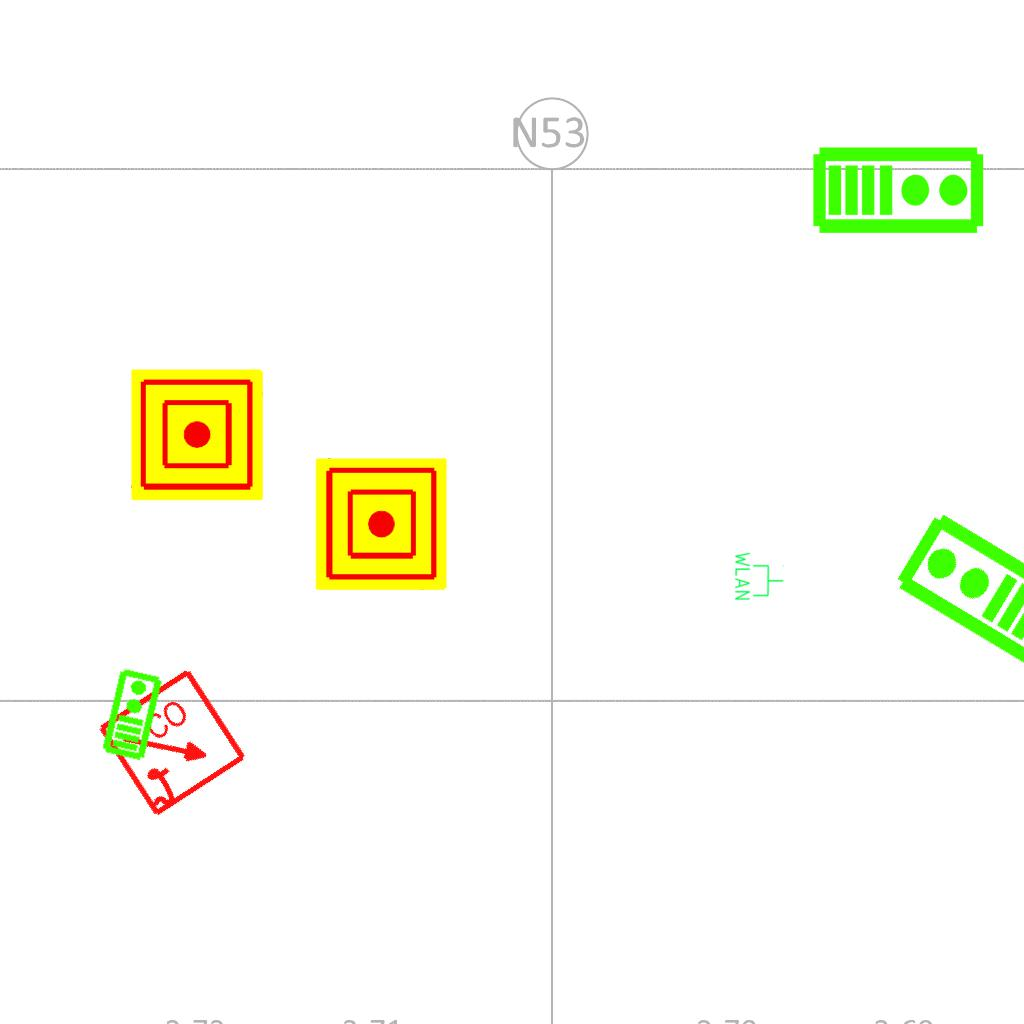Gegensprechanlage_mit_Video: (887, 506, 1024, 680), (811, 141, 987, 236), (98, 665, 165, 763)
NAM-Nichtautomatischer_Melder: (315, 458, 447, 590), (131, 369, 263, 501)
ROA_Rauchmelder_optisch_mit_Signalgeber_(Sockelsirene): (95, 665, 252, 822)
WLAN: (733, 550, 785, 602)
